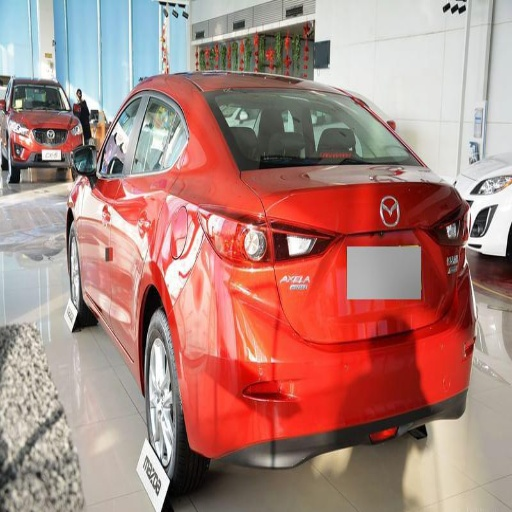_background_: (195, 295, 465, 482)
back_bumper: (229, 119, 414, 168)
back_glass: (111, 90, 174, 291)
back_left_door: (205, 208, 273, 265)
back_right_door: (444, 220, 467, 273)
front_bumper: (247, 88, 358, 127)
front_glass: (83, 90, 145, 310)
right_mirror: (318, 166, 457, 281)
tailgate: (254, 168, 443, 380)
trunk: (144, 312, 202, 505), (68, 226, 80, 317)
